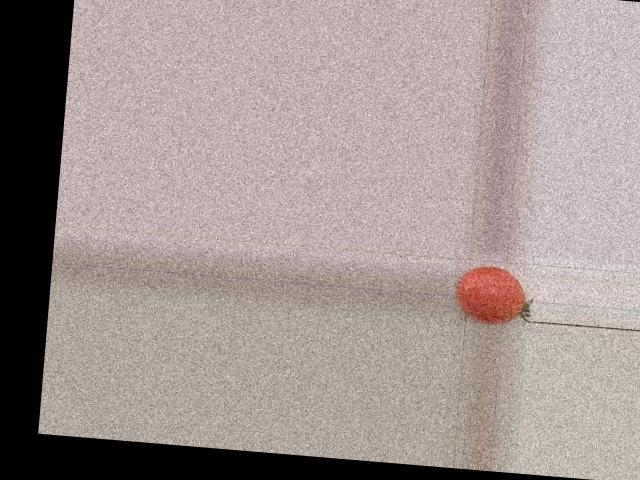tomato: (453, 264, 528, 327)
